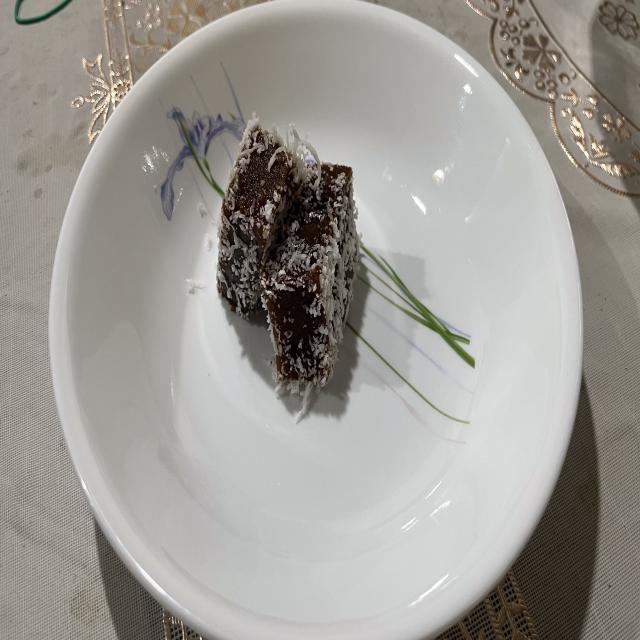kaswi: (260, 161, 360, 384), (214, 114, 304, 323)
